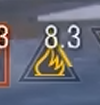1fire: (16, 52, 83, 84)
